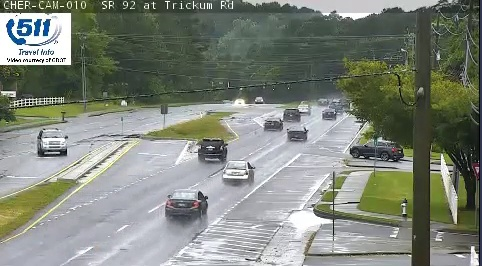car: (166, 189, 207, 215), (223, 160, 253, 183), (197, 138, 226, 159), (263, 117, 283, 132), (286, 127, 307, 140), (283, 108, 300, 122), (321, 108, 336, 120)
